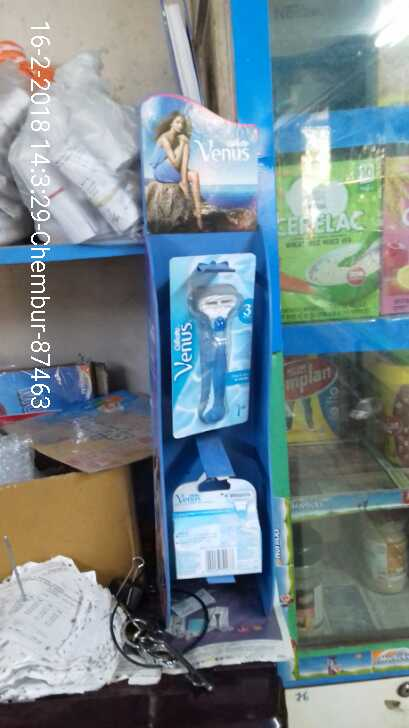venus: (166, 257, 253, 435)
